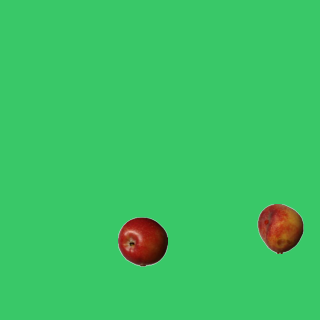Apple Braeburn: (117, 216, 167, 266)
Peach: (255, 203, 305, 253)
